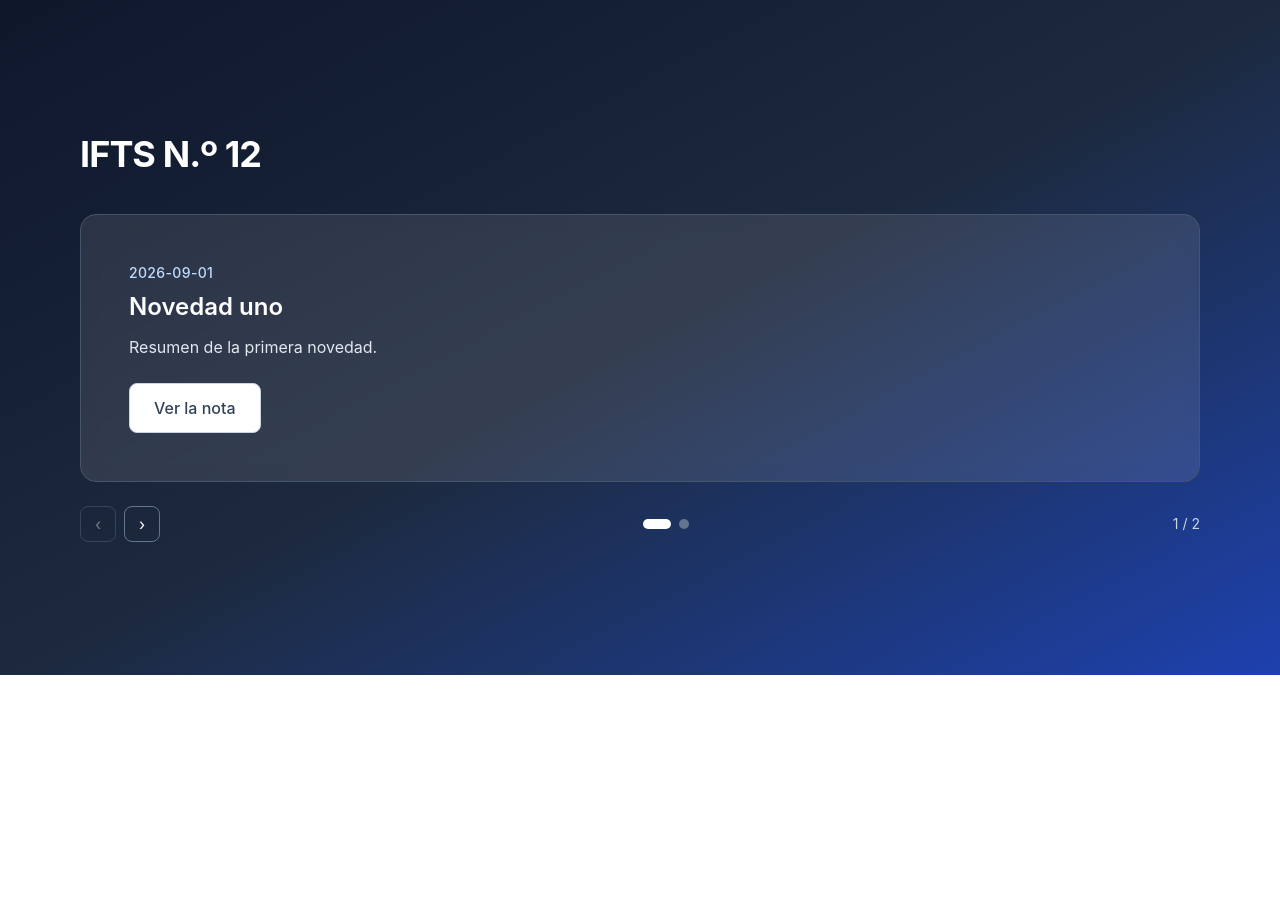
Scenario: CarruselInstitucional › avanza y retrocede entre las novedades
The image size is (1280, 900).
Click the button named "Novedad siguiente": [142, 524] box [124,506,160,542]
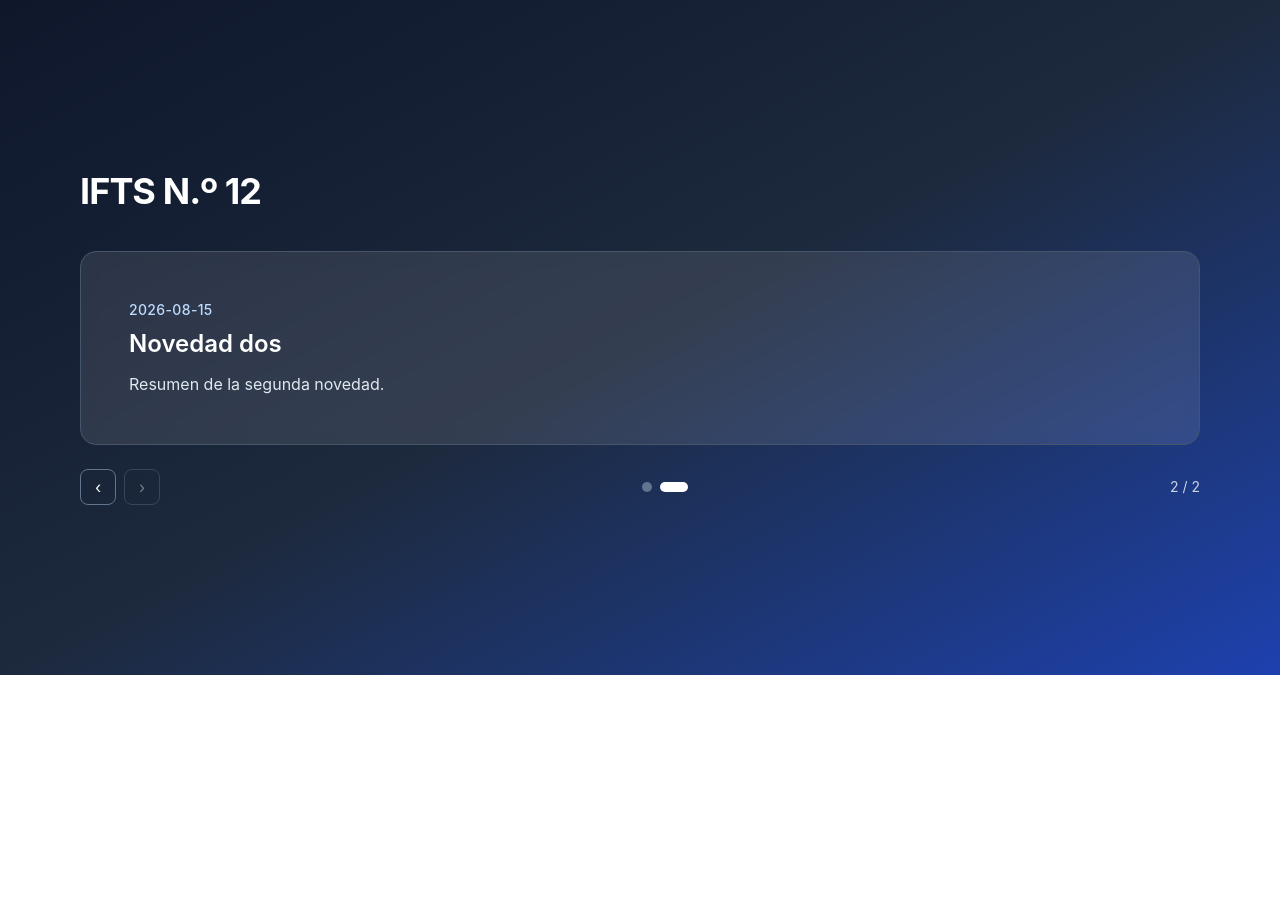
Check: the heading "Novedad dos" is shown, box [129,328,282,358]
Check: the text "2 / 2" is shown, box [1170,476,1200,496]
Click the button named "Novedad anterior": [98, 486] box [80,468,116,504]
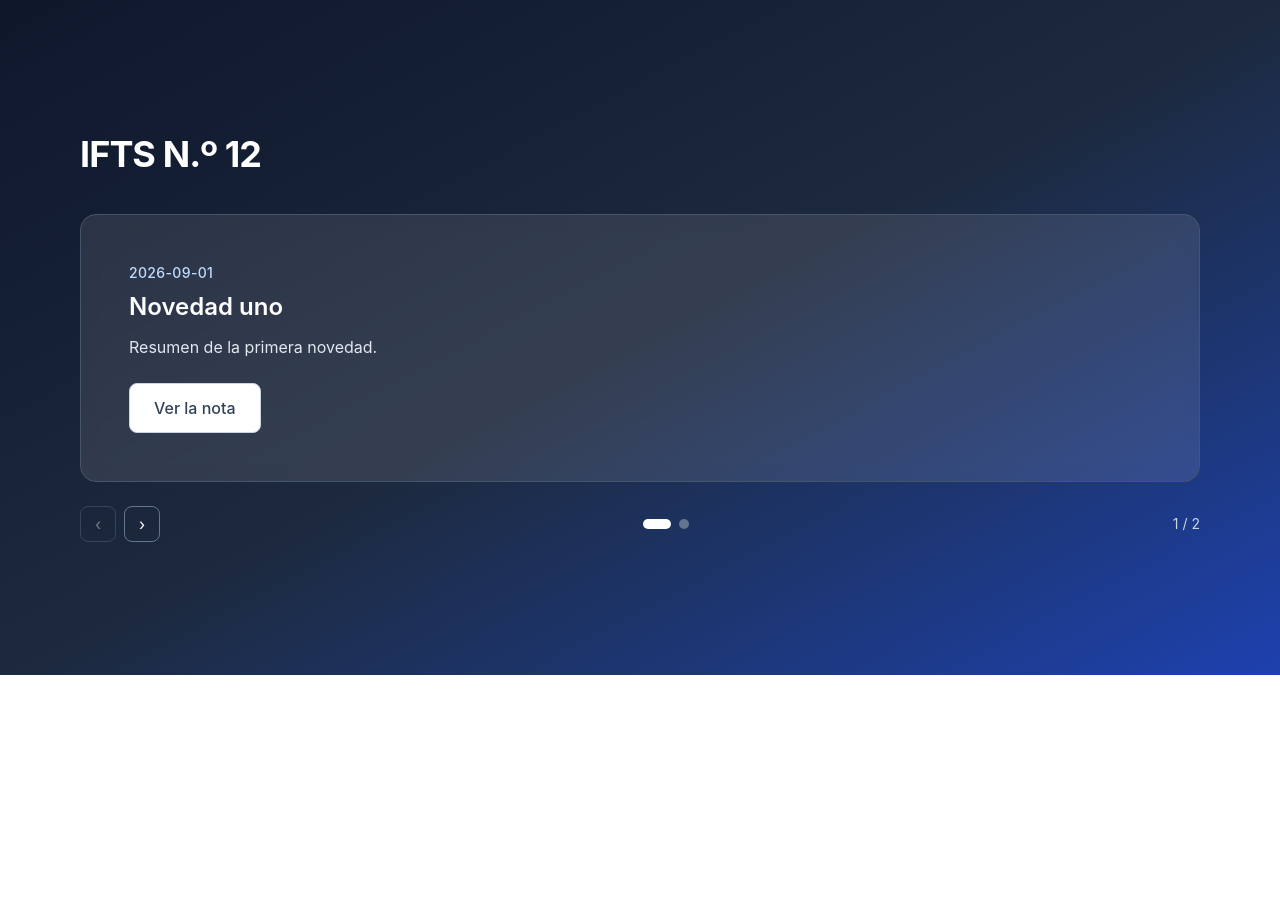
Check: the heading "Novedad uno" is shown, box [129,292,283,320]
